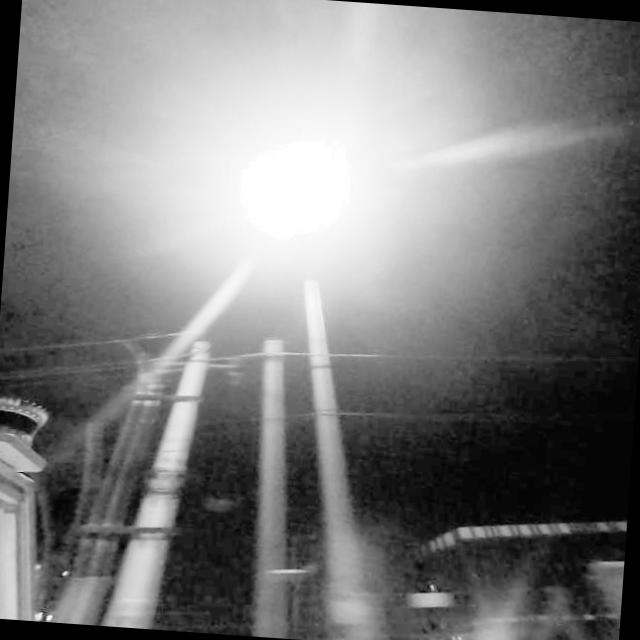Light: (226, 127, 368, 244)
